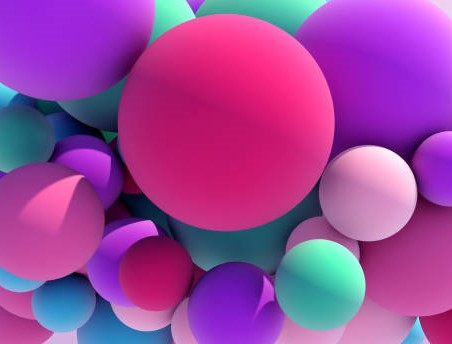Balloon: (117, 11, 336, 232), (1, 1, 156, 102), (1, 162, 105, 281), (316, 145, 418, 242), (277, 239, 367, 330), (191, 262, 286, 344), (121, 237, 193, 309), (33, 273, 96, 332), (413, 130, 452, 207)
